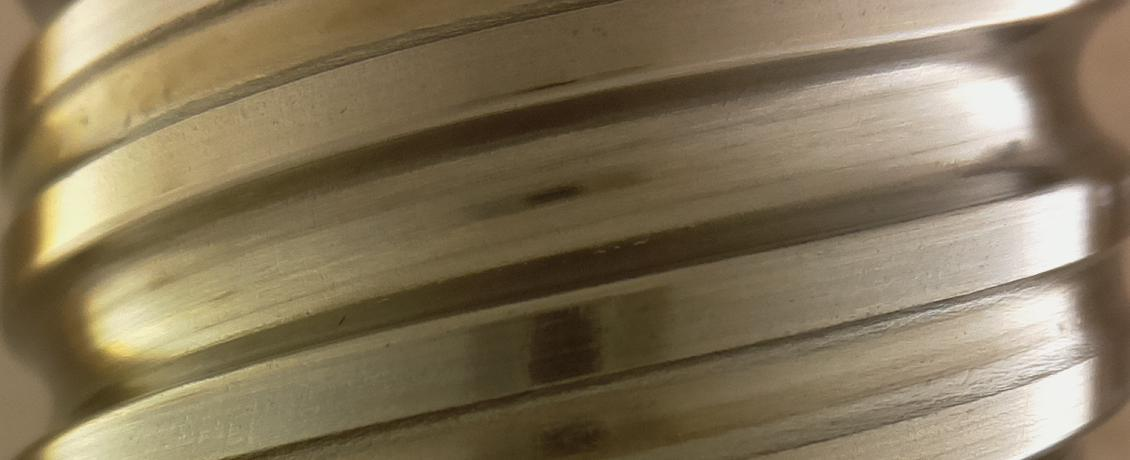pitting: (339, 315, 345, 324)
